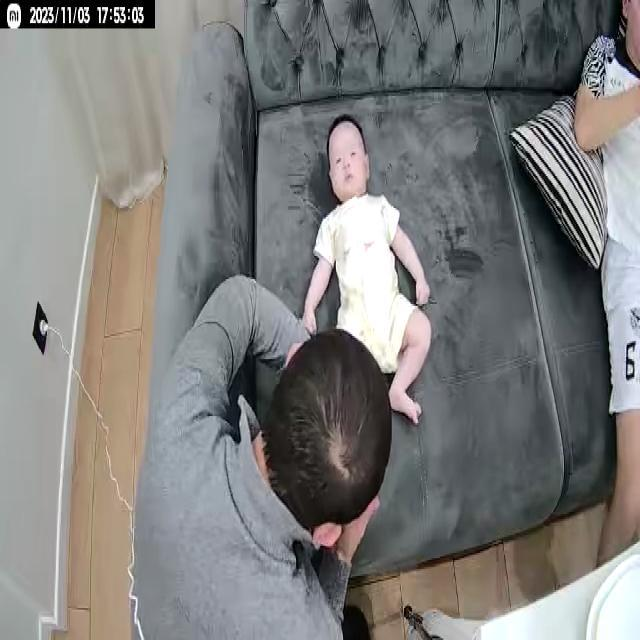baby: (300, 110, 433, 434)
